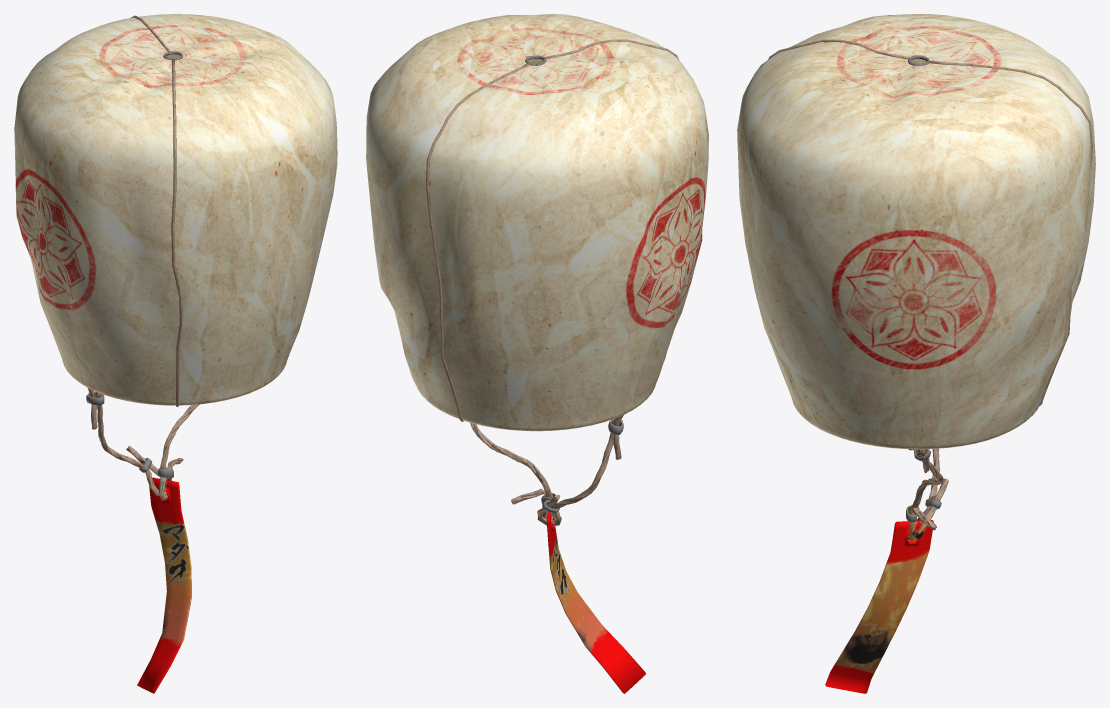
The picture shows the model from 3 angles, left to right: view 1: azimuth 30°, elevation 25°; view 2: azimuth 150°, elevation 25°; view 3: azimuth 270°, elevation 25°; orthographic projection. The views are drawn at different scales.
Parts seen in each view (by area): view 1: SM_SkyLattern_4; view 2: SM_SkyLattern_4; view 3: SM_SkyLattern_4.
Part boxes in pixels (x1=…): SM_SkyLattern_4: x1=14, y1=14, x2=337, y2=693; SM_SkyLattern_4: x1=366, y1=14, x2=708, y2=693; SM_SkyLattern_4: x1=737, y1=14, x2=1095, y2=693.
Size of the model in its own units: 99.83 by 206 by 100.
2 materials, 2 textured.
